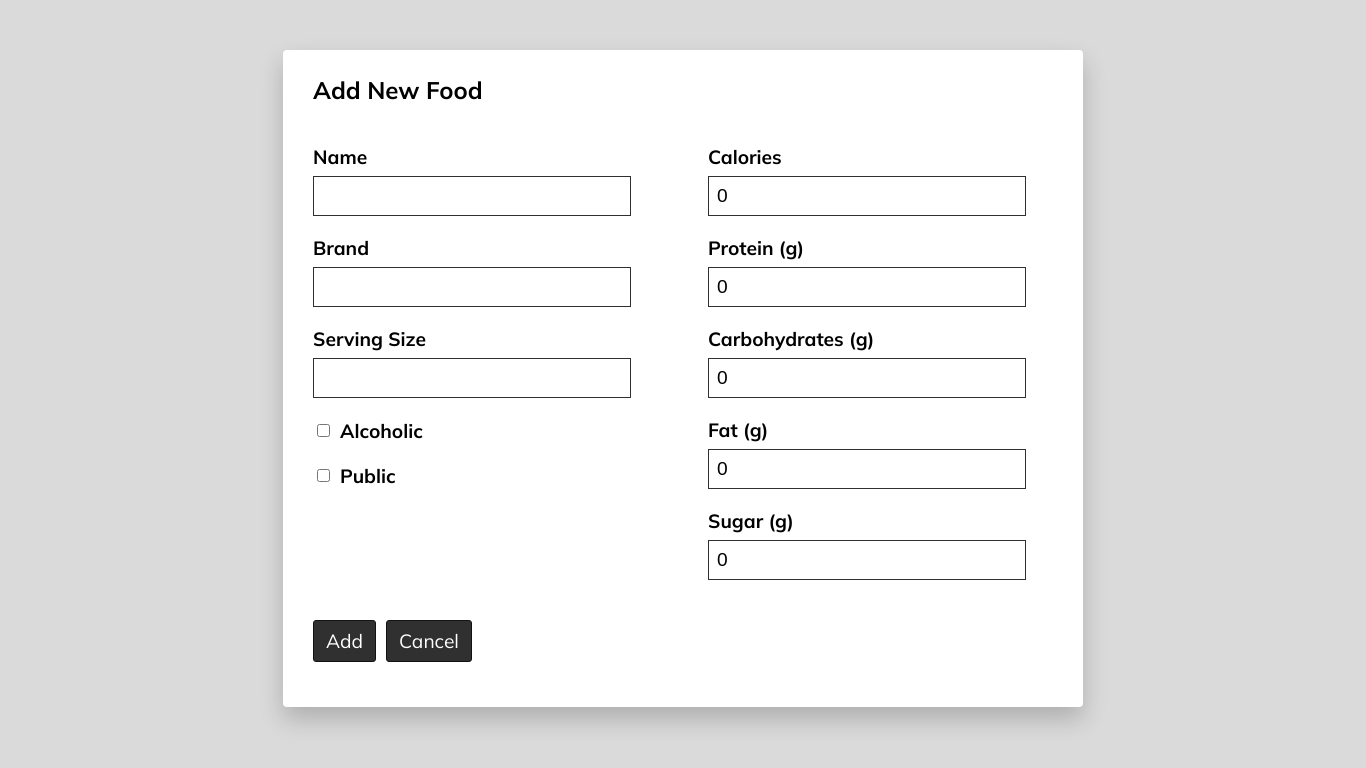
<CustomFoodForm /> › it validates the form
Clear the field labelled "Name". click: x=472, y=196
box: 313,176 -> 631,216
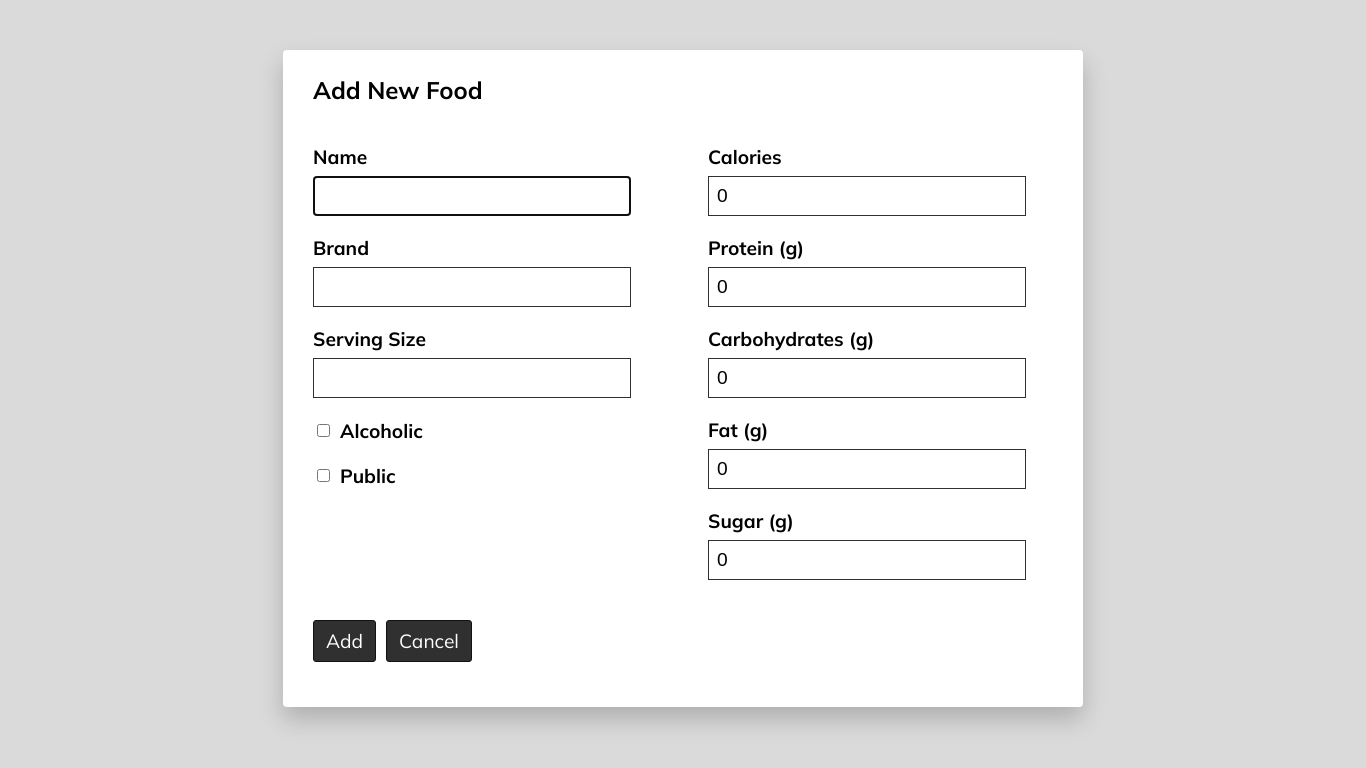
Clear the field labelled "Serving Size". click: x=472, y=378
box: 313,358 -> 631,398
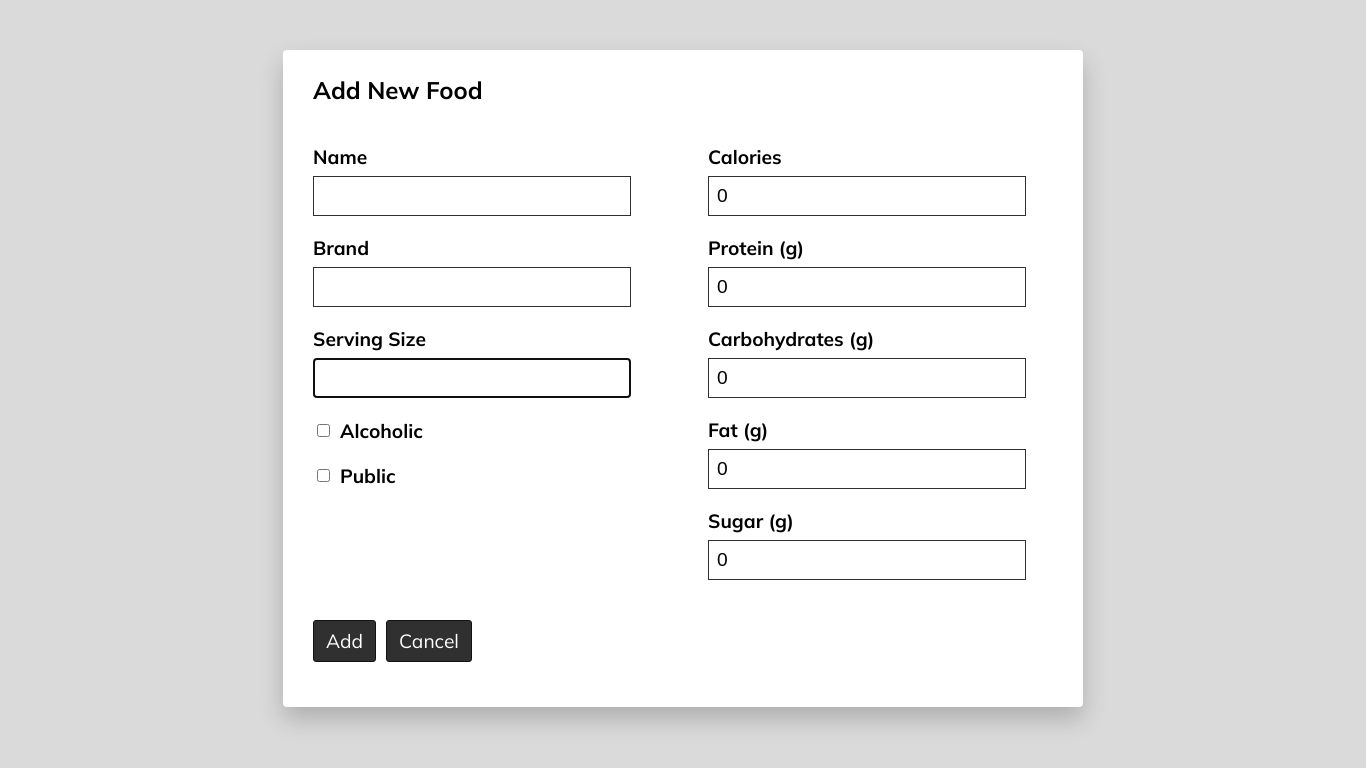
Leave the field labelled "Serving Size", box 313,358 -> 631,398
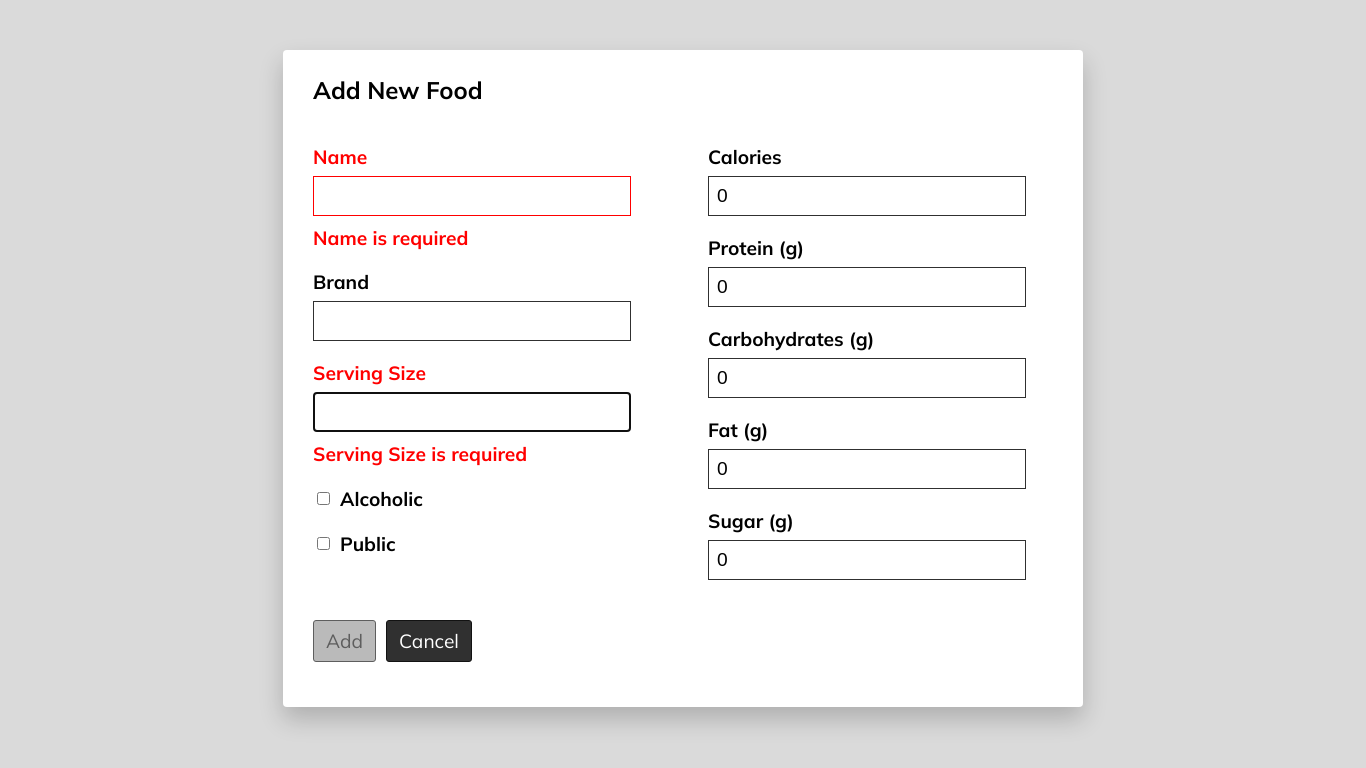
Expected: the text "Name is required" is shown, 313,226 -> 468,250
Expected: the text "Serving Size is required" is shown, 313,442 -> 527,466
Expected: the button "Add" is disabled, 313,620 -> 376,662
